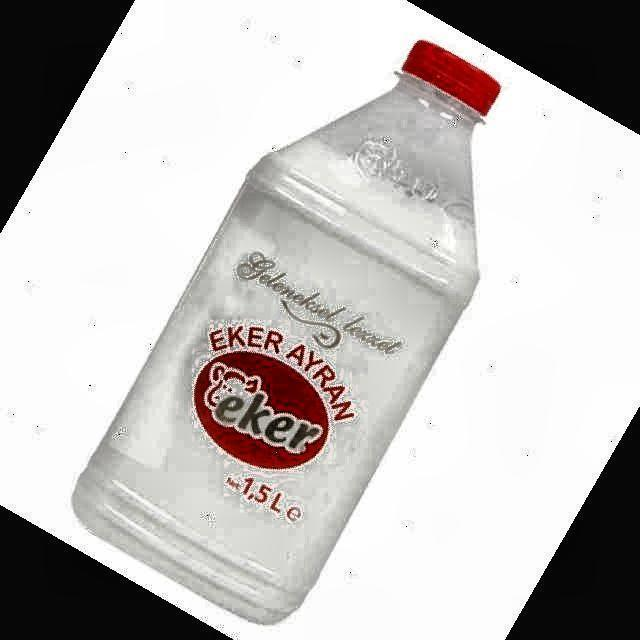plastic: (74, 41, 500, 622)
